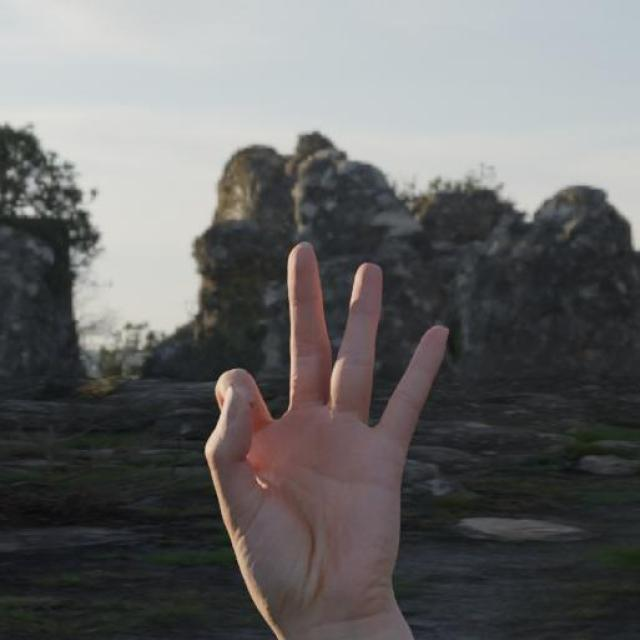F: (199, 236, 452, 623)
